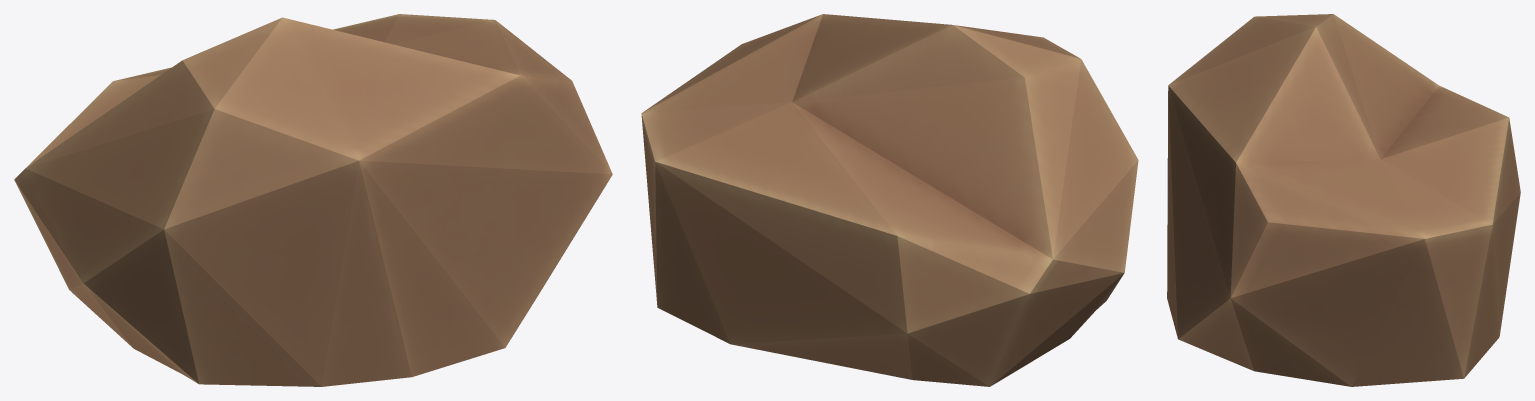
The model's file is Rock_35.fbx.
The picture shows the model from 3 angles, left to right: view 1: azimuth 30°, elevation 25°; view 2: azimuth 150°, elevation 25°; view 3: azimuth 270°, elevation 25°; orthographic projection. The views are drawn at different scales.
Visible parts, largest first — view 1: Rock_35; view 2: Rock_35; view 3: Rock_35.
Boxes of the visible parts, x1,y1,x2,y2 form: Rock_35: (14,14,612,386); Rock_35: (641,14,1138,386); Rock_35: (1167,14,1520,386).
Size of the model in its own units: 29.64 by 22.89 by 18.22.
1 material, 1 textured.
